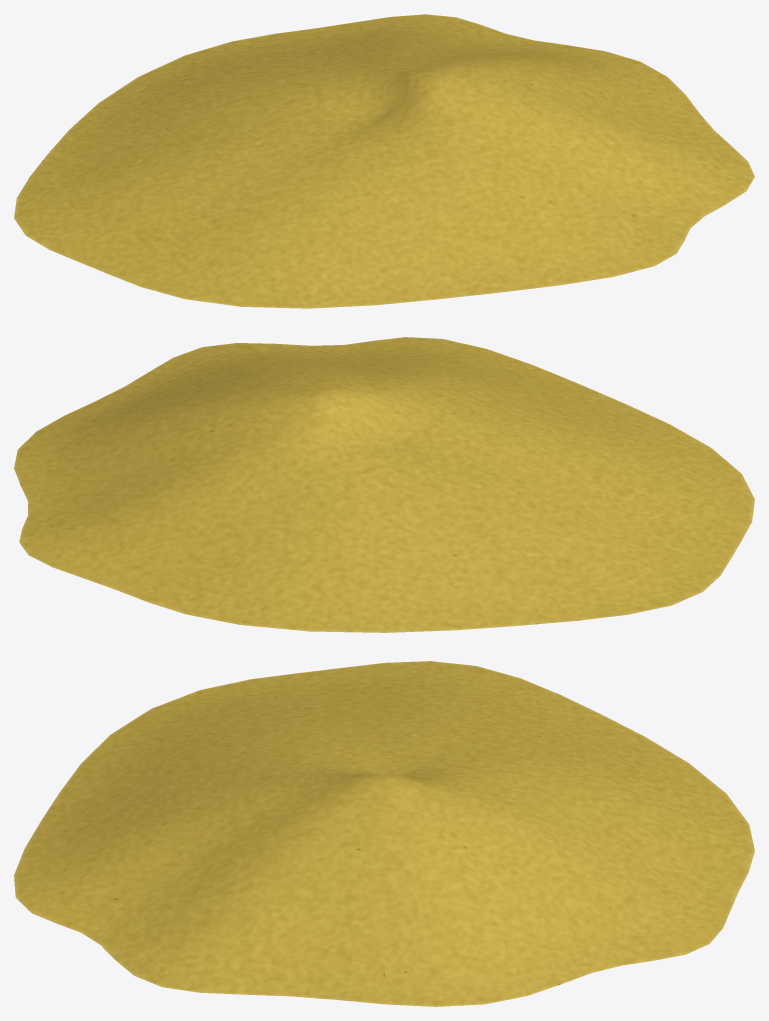
The model's file is underworld-ground-sulfur-drift-crescent.glb.
3 renders of one model, top to bottom at view 1: azimuth 30°, elevation 25°; view 2: azimuth 150°, elevation 25°; view 3: azimuth 270°, elevation 25°, orthographic. The views are drawn at different scales.
Visible parts, largest first — view 1: wind-deposit; view 2: wind-deposit; view 3: wind-deposit.
Part boxes in pixels (x1,y1,x2,y2): wind-deposit: (14, 14, 754, 308); wind-deposit: (14, 337, 754, 632); wind-deposit: (14, 661, 754, 1006).
Size of the model in its own units: 3.85 by 0.5481 by 3.48.
Materials: 1 (1 with a texture image).
